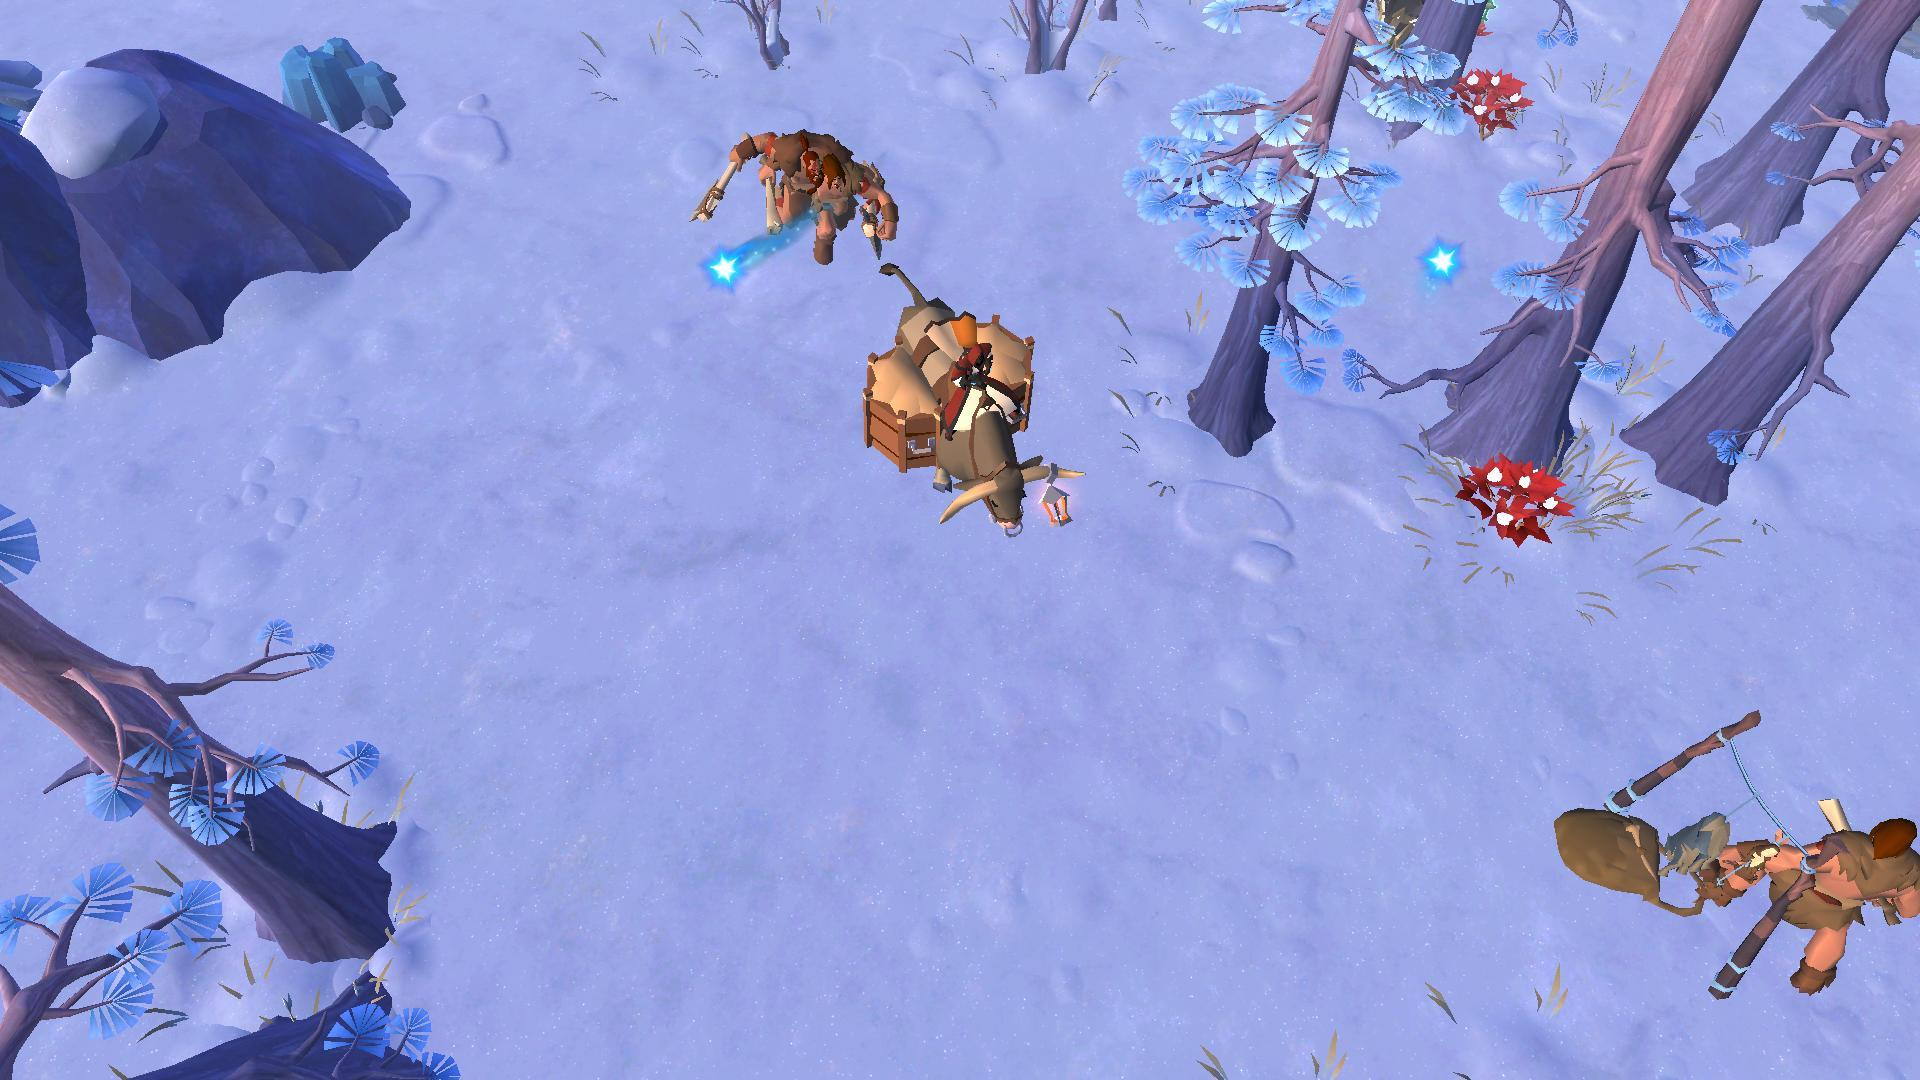enemy_factionKeeper: (1730, 781, 1920, 1001), (698, 108, 910, 282)
fiber_t5: (1457, 455, 1564, 543), (1451, 69, 1531, 140)
rock_t4: (281, 28, 410, 142)
